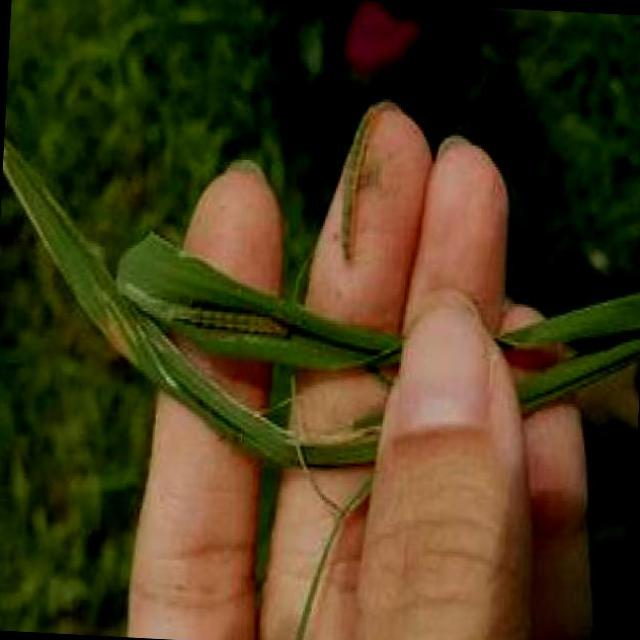leaf folder: (340, 101, 398, 258)
